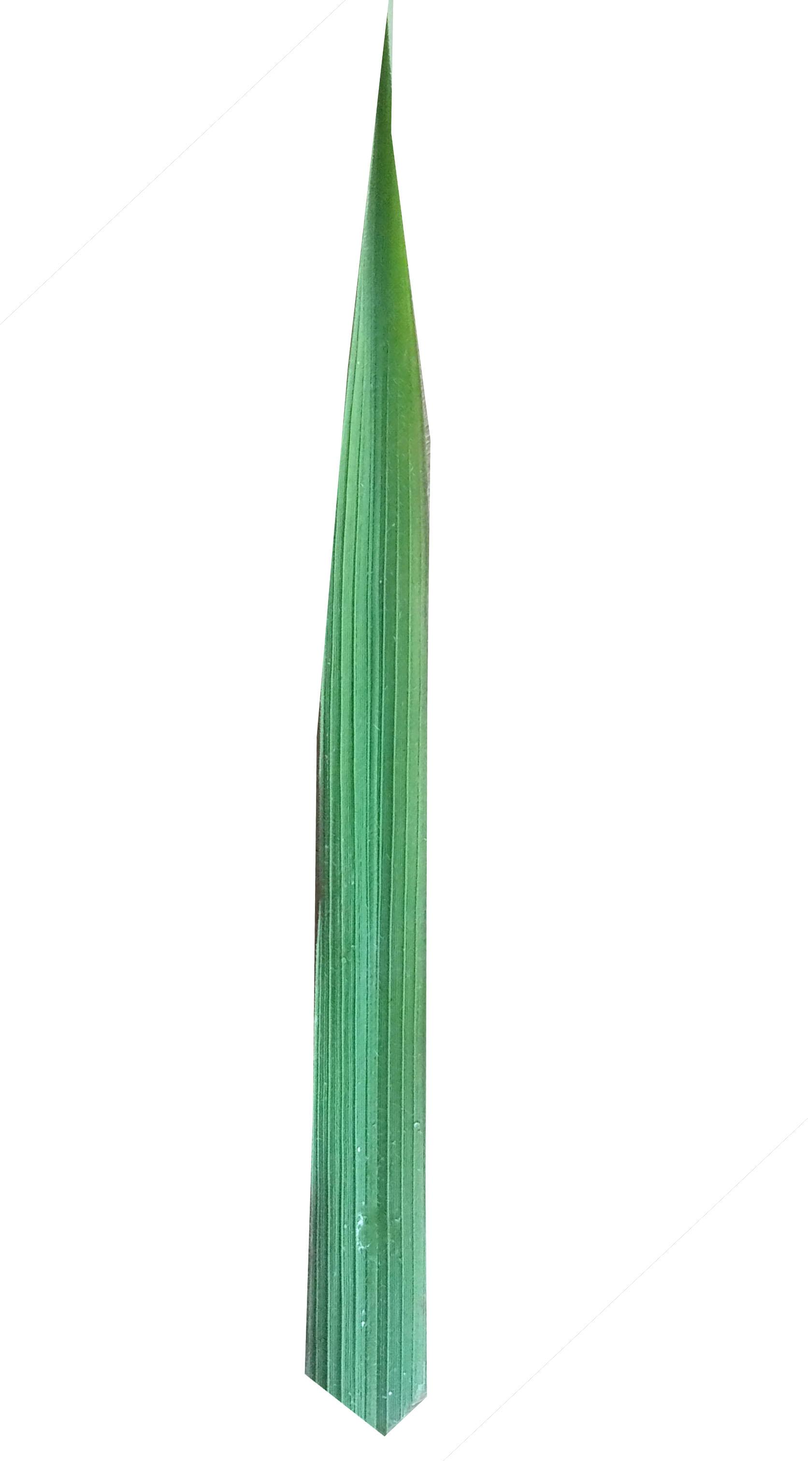Healthy: (303, 0, 432, 1438)
